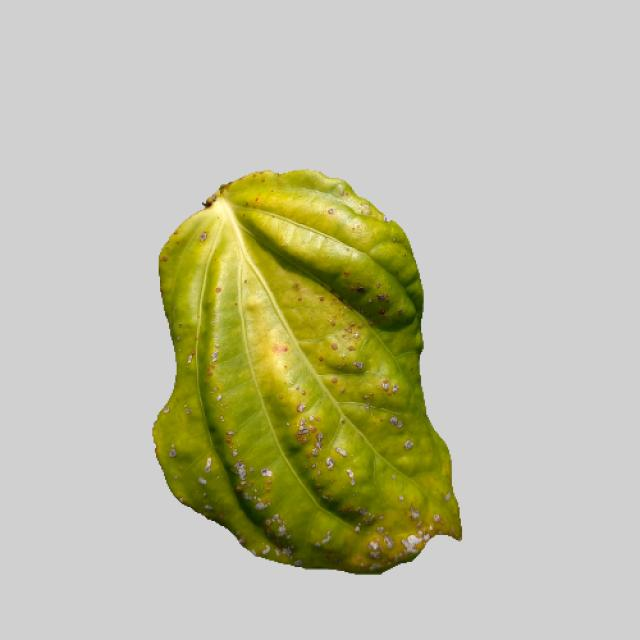yellow-mottle-virus: (145, 174, 458, 570)
